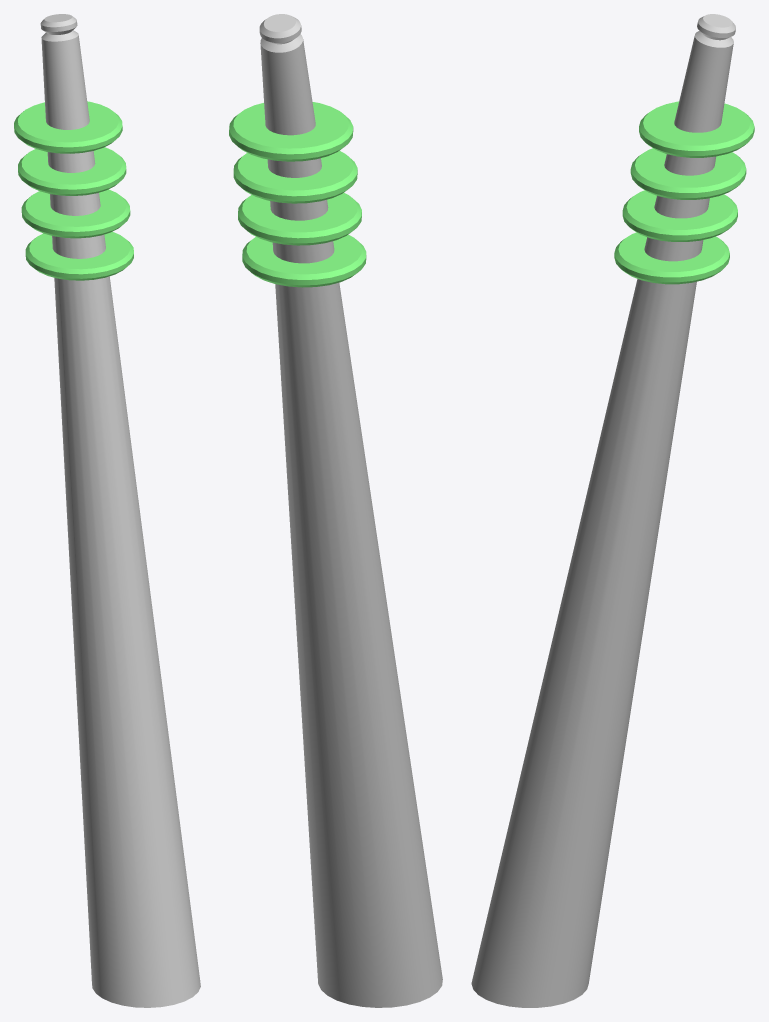
File: tower.glb
The picture shows the model from 3 angles, left to right: view 1: azimuth 30°, elevation 25°; view 2: azimuth 150°, elevation 25°; view 3: azimuth 270°, elevation 25°; orthographic projection. The views are drawn at different scales.
Visible parts, largest first — view 1: Cylinder.003; view 2: Cylinder.003; view 3: Cylinder.003.
Part boxes in pixels (x1,y1,x2,y2): Cylinder.003: (14,14,200,1007); Cylinder.003: (229,14,442,1007); Cylinder.003: (471,14,754,1007).
Bounding box in the file's own units: 3 × 27.64 × 7.35.
